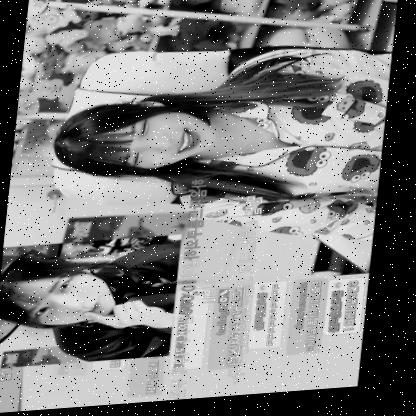donation: (0, 177, 271, 414)
streamer: (46, 46, 395, 266)
